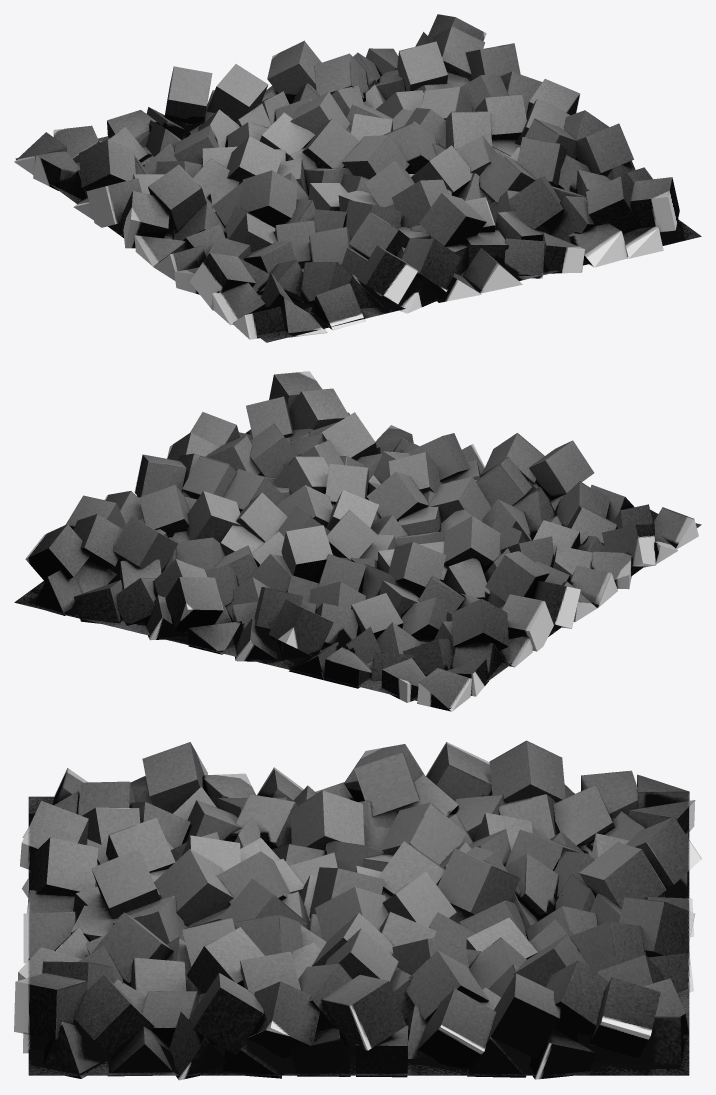
The model's file is foampit_lod1.fbx.
3 renders of one model, top to bottom at view 1: azimuth 30°, elevation 25°; view 2: azimuth 150°, elevation 25°; view 3: azimuth 270°, elevation 25°, orthographic. The views are drawn at different scales.
Visible parts, largest first — view 1: Cube.001; view 2: Cube.001; view 3: Cube.001.
Part boxes in pixels (box(x1,y1,x2,y2)): Cube.001: box(14, 14, 701, 342); Cube.001: box(14, 371, 701, 711); Cube.001: box(14, 740, 701, 1080).
Bounding box in the file's own units: 132 × 20.98 × 133.
2 materials, 2 textured.
